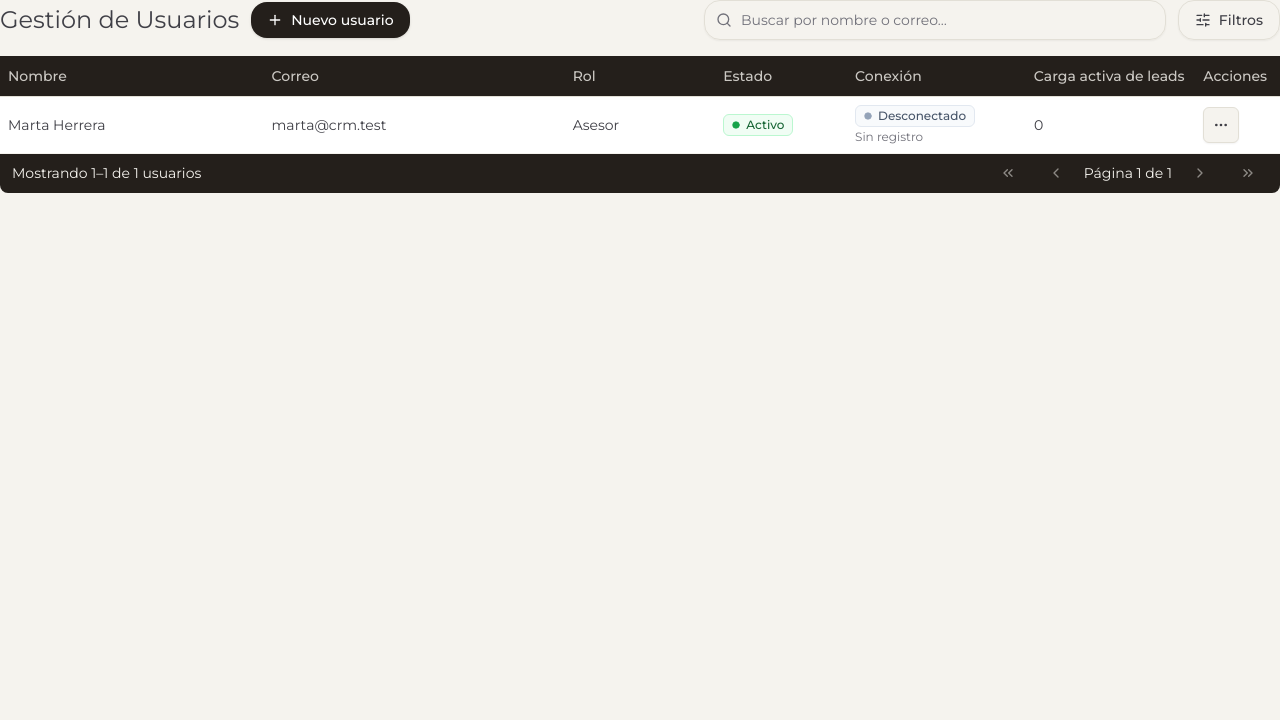
Test: UsuariosPage — filtro «solo holding-wide» (Item 25, integración con useVistaEmpresa, default invertido) › `hayFiltrosActivos` (criterio invertido): tildar «Ver usuarios de todas las empresas» sin resultados sí cuenta como filtro activo -- estado vacío de 'no coincid
Expected: the text "Marta Herrera" is shown, [8, 116, 106, 134]
Click the button "Filtros" at (1229, 20), box [1178, 0, 1279, 40]
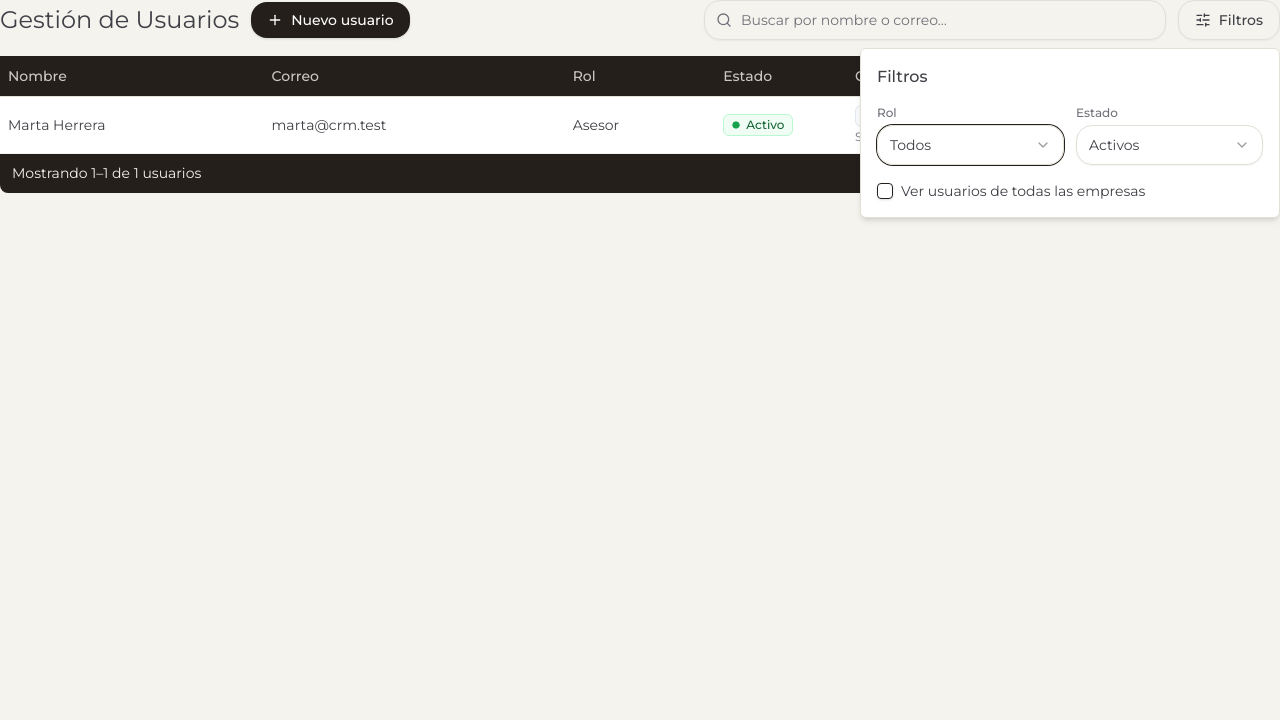
Click the checkbox named "todas las empresas" at (885, 191), box [877, 183, 893, 199]
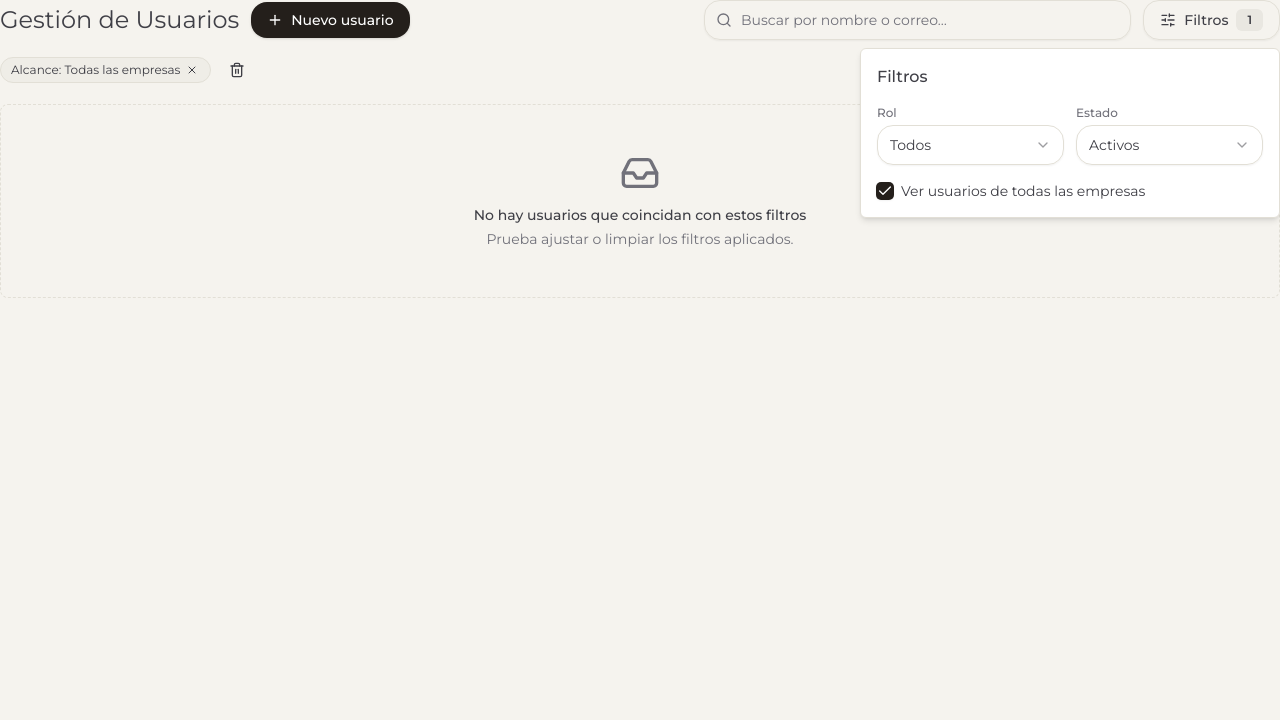
Expected: the text "No hay usuarios que coincidan con estos filtros" is shown, [474, 205, 806, 225]
